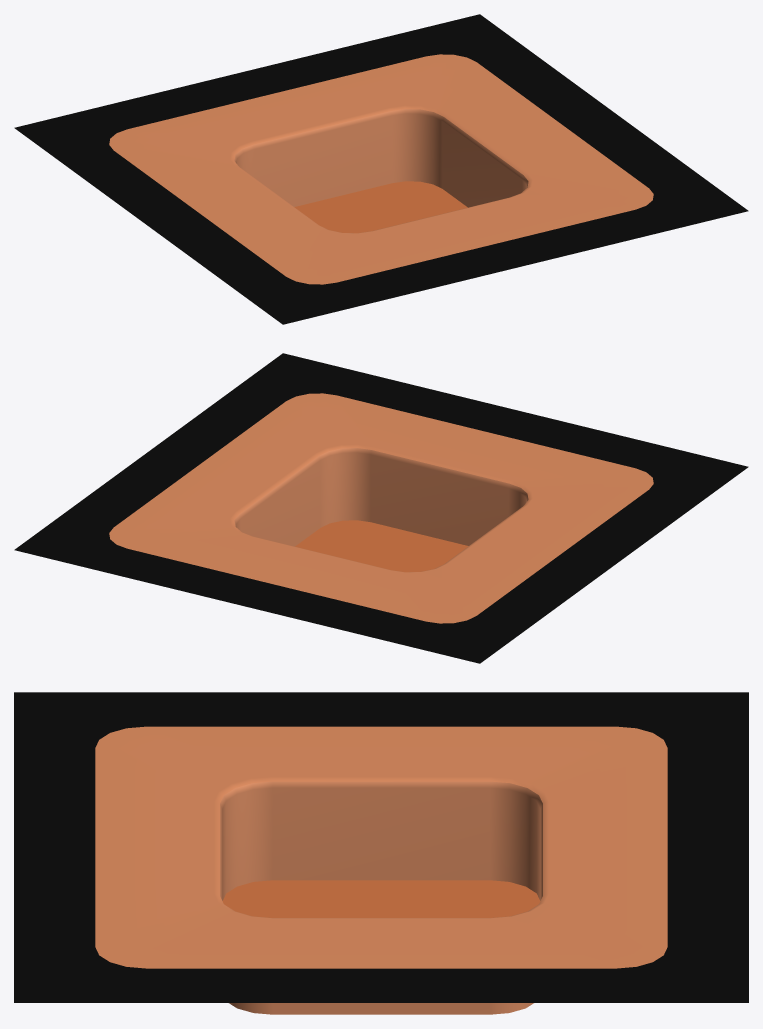
Rendered from Cell_Orange_V3.fbx.
3 views of the same model, one above another, from view 1: azimuth 30°, elevation 25°; view 2: azimuth 150°, elevation 25°; view 3: azimuth 270°, elevation 25° (orthographic). The views are drawn at different scales.
Parts seen in each view (by area): view 1: Tile_Orange, Cell_Border; view 2: Tile_Orange, Cell_Border; view 3: Tile_Orange, Cell_Border.
Part boxes in pixels (x1,y1,x2,y2): Tile_Orange: (109,54,653,284); Cell_Border: (14,14,748,324); Tile_Orange: (109,393,653,623); Cell_Border: (14,353,748,663); Tile_Orange: (95,726,667,1014); Cell_Border: (14,692,748,1002).
Size of the model in its own units: 112 by 16.8 by 112.
